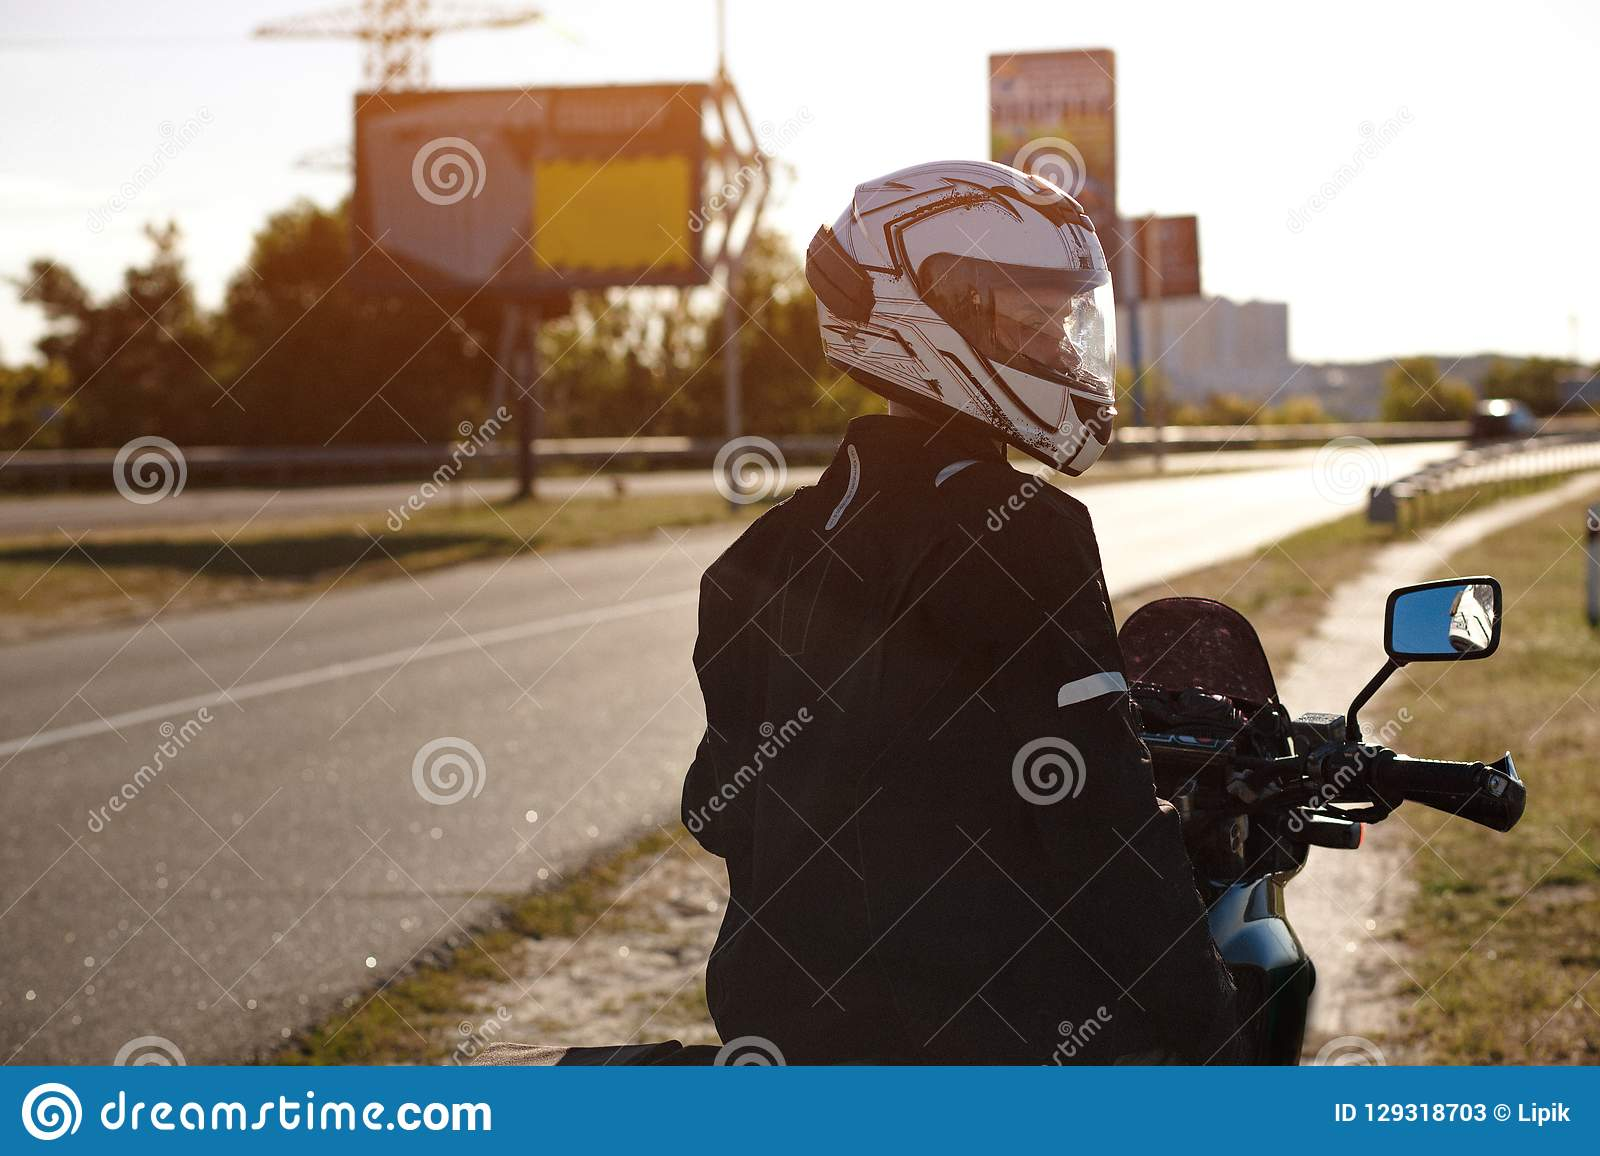helmet: (812, 161, 1134, 490)
